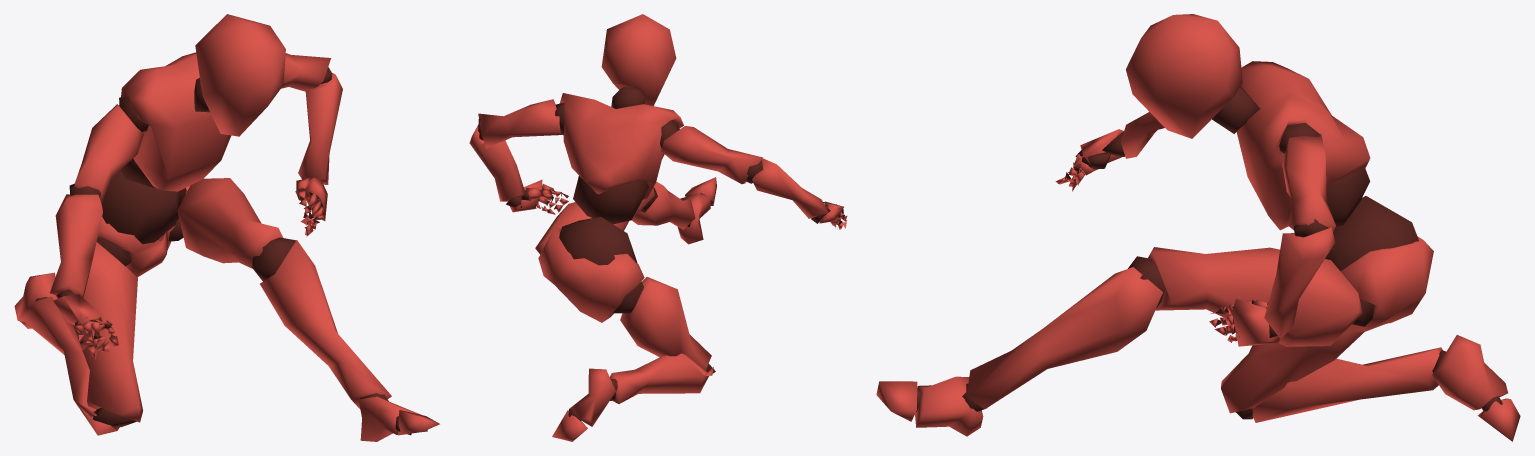
3 renders of one model, left to right at view 1: azimuth 30°, elevation 25°; view 2: azimuth 150°, elevation 25°; view 3: azimuth 270°, elevation 25°, orthographic. The views are drawn at different scales.
Parts seen in each view (by area): view 1: Beta_Surface; view 2: Beta_Surface; view 3: Beta_Surface.
Part boxes in pixels (x1=…): Beta_Surface: x1=14, y1=14, x2=439, y2=441; Beta_Surface: x1=469, y1=14, x2=847, y2=441; Beta_Surface: x1=876, y1=14, x2=1520, y2=441.
Bounding box in the file's own units: 8.77 × 9.43 × 11.93.
